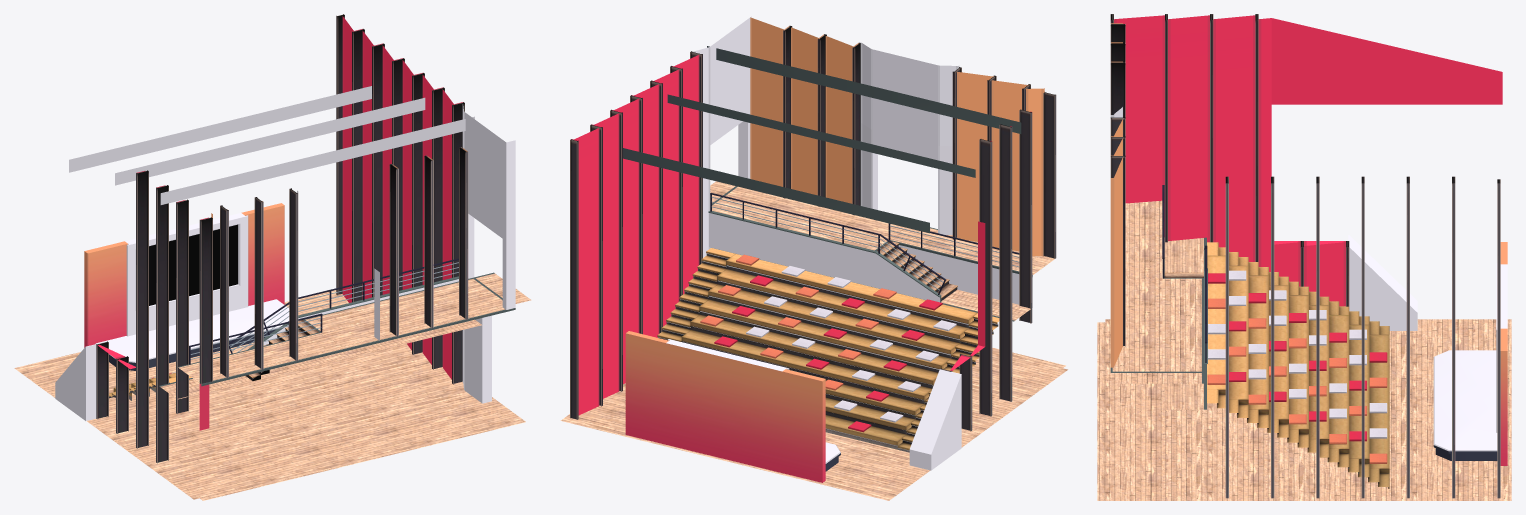
Rendered from TeachingCommunityInteriorLectureTheatre01.glb.
The picture shows the model from 3 angles, left to right: view 1: azimuth 30°, elevation 25°; view 2: azimuth 150°, elevation 25°; view 3: azimuth 270°, elevation 25°; orthographic projection. The views are drawn at different scales.
Visible parts, largest first — view 1: TCV_LectureTheatreFloor, TCV_LectureTheatreWallLeft, TCV_LectureTheatreWallRight, TCV_LectureTheatreStage, TCV_LectureTheatreStairs1, TCV_LectureTheatreRoof01, TCV_LectureTheatreWallBack, TCV_LectureTheatreStairRailings; view 2: TCV_LectureTheatreWallLeft, TCV_LectureTheatreWallBack, TCV_LectureTheatreSeatsBase, TCV_LectureTheatreStage, TCV_LectureTheatreStairs1, TCV_LectureTheatreWallRight, TCV_LectureTheatreRoof01, TCV_LectureTheatreFloor, TCV_LectureTheatreStairRailings; view 3: TCV_LectureTheatreWallRight, TCV_LectureTheatreFloor, TCV_LectureTheatreSeatsBase, TCV_LectureTheatreStairs1, TCV_LectureTheatreWallLeft, TCV_LectureTheatreStage, TCV_LectureTheatreWallBack, TCV_LectureTheatreStairRailings.
Part boxes in pixels (bbox=[...]): TCV_LectureTheatreFloor: bbox=[14, 290, 525, 500]; TCV_LectureTheatreWallLeft: bbox=[336, 14, 515, 403]; TCV_LectureTheatreWallRight: bbox=[55, 170, 212, 463]; TCV_LectureTheatreStage: bbox=[84, 203, 289, 370]; TCV_LectureTheatreStairs1: bbox=[159, 272, 531, 399]; TCV_LectureTheatreRoof01: bbox=[69, 86, 474, 204]; TCV_LectureTheatreWallBack: bbox=[211, 147, 468, 378]; TCV_LectureTheatreStairRailings: bbox=[189, 258, 458, 364]; TCV_LectureTheatreWallLeft: bbox=[570, 16, 751, 419]; TCV_LectureTheatreWallBack: bbox=[750, 17, 1044, 256]; TCV_LectureTheatreSeatsBase: bbox=[657, 248, 999, 452]; TCV_LectureTheatreStage: bbox=[625, 331, 840, 482]; TCV_LectureTheatreStairs1: bbox=[708, 181, 1054, 321]; TCV_LectureTheatreWallRight: bbox=[909, 92, 1056, 470]; TCV_LectureTheatreRoof01: bbox=[623, 46, 1021, 233]; TCV_LectureTheatreFloor: bbox=[560, 347, 1067, 500]; TCV_LectureTheatreStairRailings: bbox=[710, 193, 1019, 294]; TCV_LectureTheatreWallRight: bbox=[1110, 14, 1502, 330]; TCV_LectureTheatreFloor: bbox=[1097, 319, 1511, 500]; TCV_LectureTheatreSeatsBase: bbox=[1207, 242, 1389, 488]; TCV_LectureTheatreStairs1: bbox=[1110, 200, 1207, 409]; TCV_LectureTheatreWallLeft: bbox=[1225, 176, 1500, 498]; TCV_LectureTheatreStage: bbox=[1433, 242, 1507, 465]; TCV_LectureTheatreWallBack: bbox=[1110, 23, 1125, 367]; TCV_LectureTheatreStairRailings: bbox=[1162, 185, 1207, 362].
Size of what is drawn, in the model's own units: 22.52 by 17.51 by 20.74.
5 materials, 5 textured.
